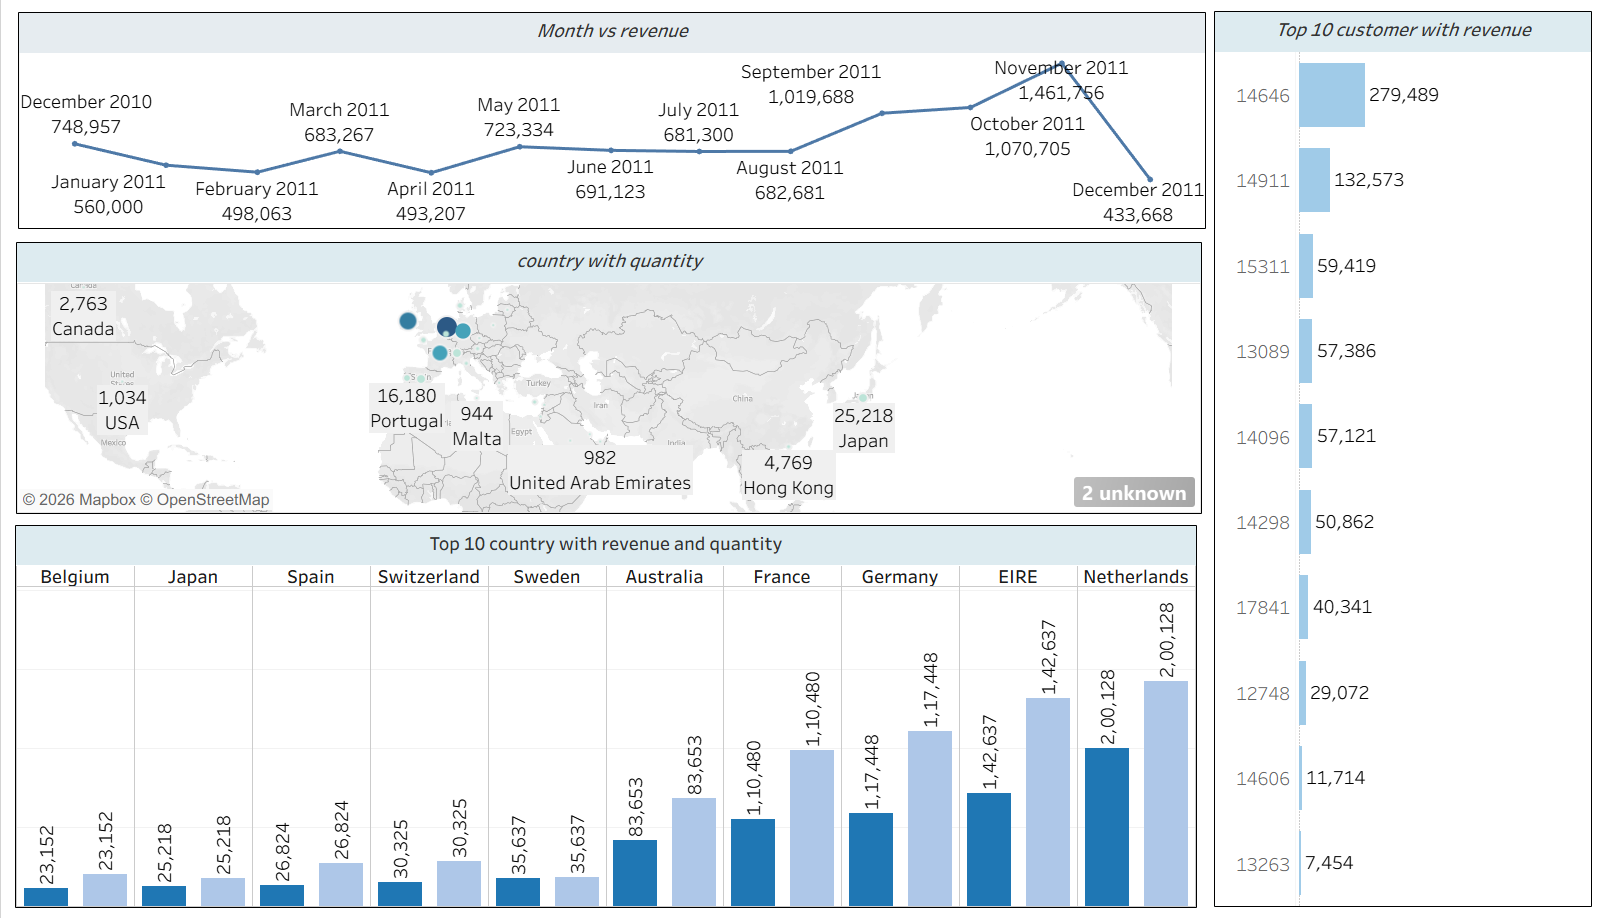

Layout of this report page (visuals, bound fields, positions):
{"tool":"tableau","page":{"name":"RETAIL DATASET","canvas":[1000,1000],"units":"permille","ordinal":0},"visuals":[{"type":"worksheet","title":"Sheet 3","mark":"Automatic","rows":["CustomerID"],"cols":["revenue"],"box":[756.2,20.5,235.7,967.6]},{"type":"worksheet","title":"Sheet 1","mark":"Automatic","rows":["revenue"],"cols":["InvoiceDate"],"box":[10.6,21.6,740.6,234.3]},{"type":"worksheet","title":"Sheet 4","mark":"Automatic","box":[9.3,270,739.4,293.7]},{"type":"worksheet","title":"Sheet 2","mark":"Automatic","cols":["Country"],"box":[8.7,575.6,736.9,413.6]}]}

Visuals, with their boxes on the dashboard's canvas, which has no fixed pixel size, in thousandths of its width and height (x1, y1, x2, y2). These are canvas units, not pixel positions in the 1605x918 screenshot, which may show the page scaled, cropped or inside an application window:
"Sheet 3" worksheet: (left=756, top=20, right=992, bottom=988)
"Sheet 1" worksheet: (left=11, top=22, right=751, bottom=256)
"Sheet 4" worksheet: (left=9, top=270, right=749, bottom=564)
"Sheet 2" worksheet: (left=9, top=576, right=746, bottom=989)
